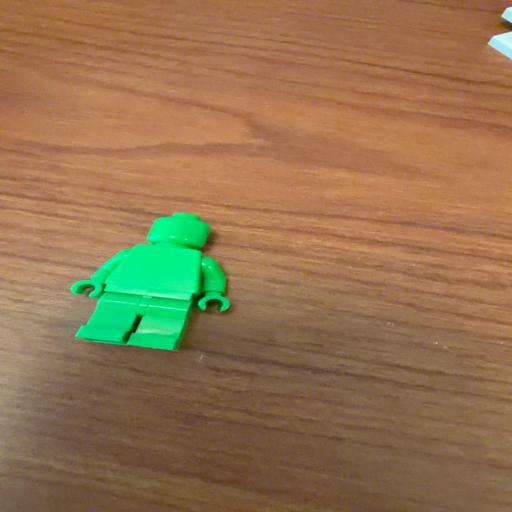UnoQ-minifig-detector: (71, 213, 230, 350)
